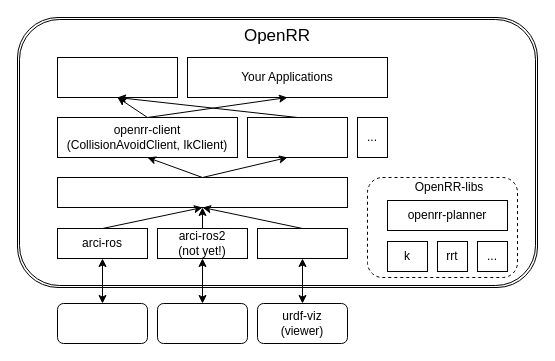
Some shapes in this 555 by 361 pixel diagram are drawn without their labels. The centre of each missing label's shape, as x and y in pixels:
"arci (Abstract Robot Control Interface) (traits)" goes at pixel 202 192.
"arci-urdf-viz" goes at pixel 302 243.
"openrr-apps" goes at pixel 117 77.
"openrr-teleop" goes at pixel 297 137.
"ROS devices/robots" goes at pixel 102 323.
"ROS2 devices/robots" goes at pixel 202 323.
